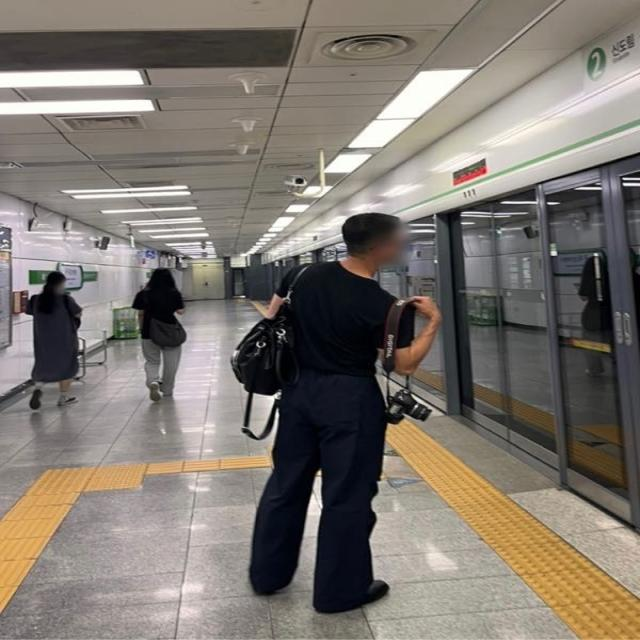coat: (21, 288, 83, 379)
denimpants: (249, 362, 385, 607)
shortsleeve: (282, 258, 406, 374)
